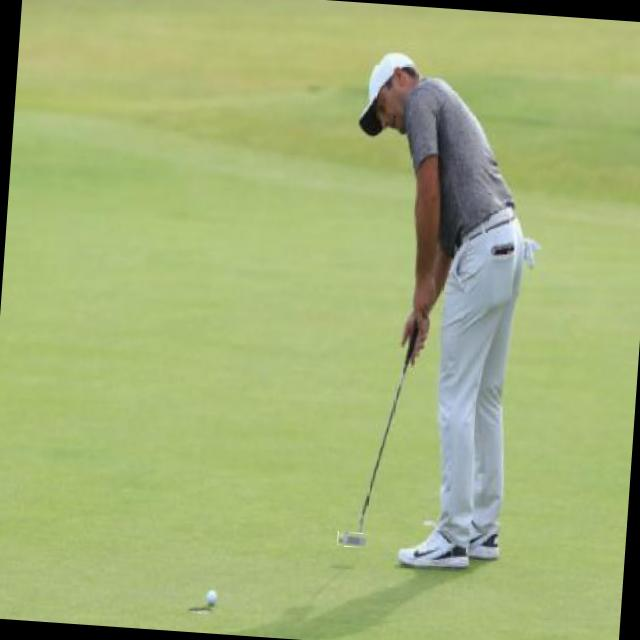club head: (336, 532, 368, 548)
